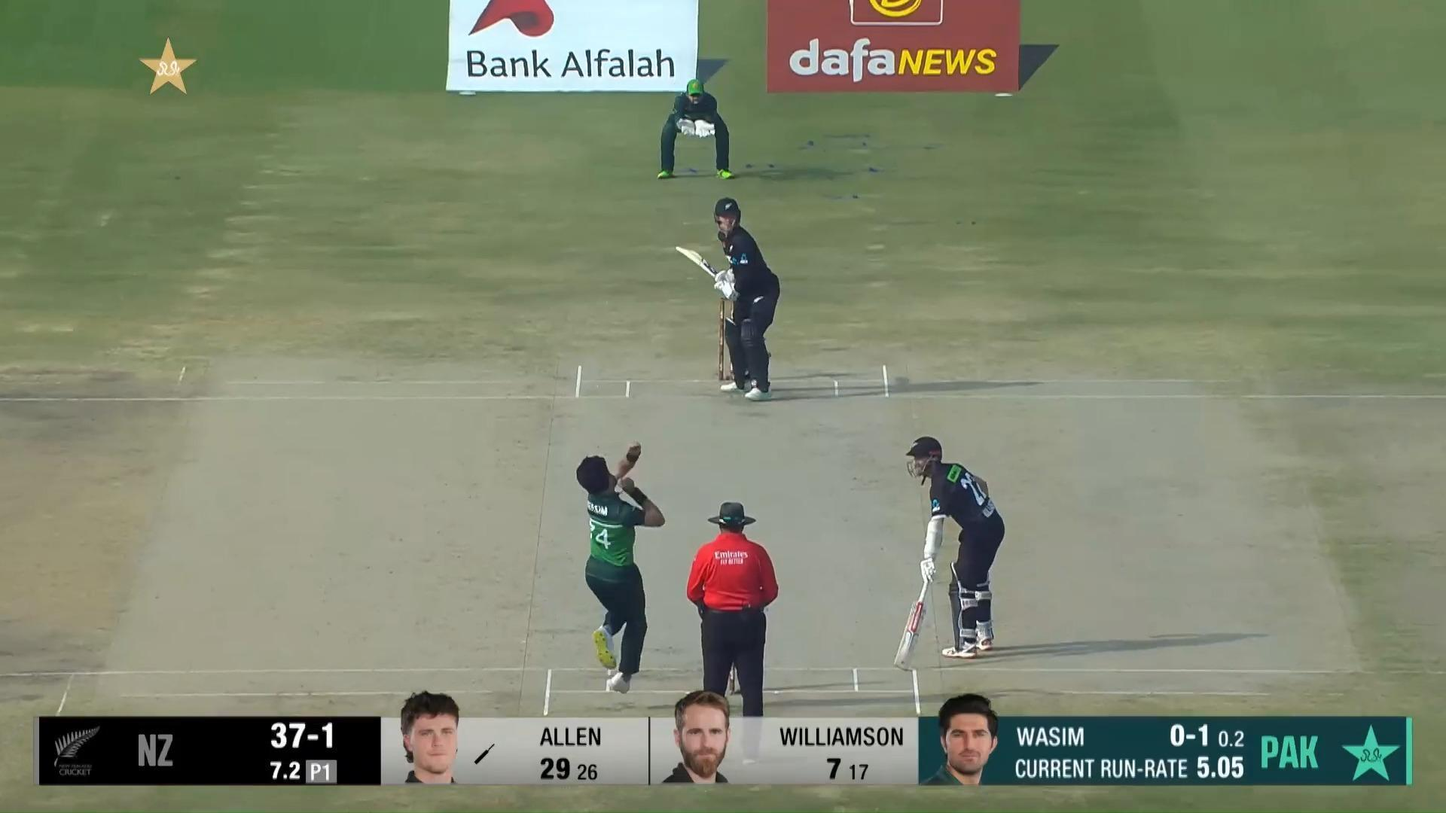BM 1: (674, 196, 781, 403)
BO: (573, 438, 668, 695)
